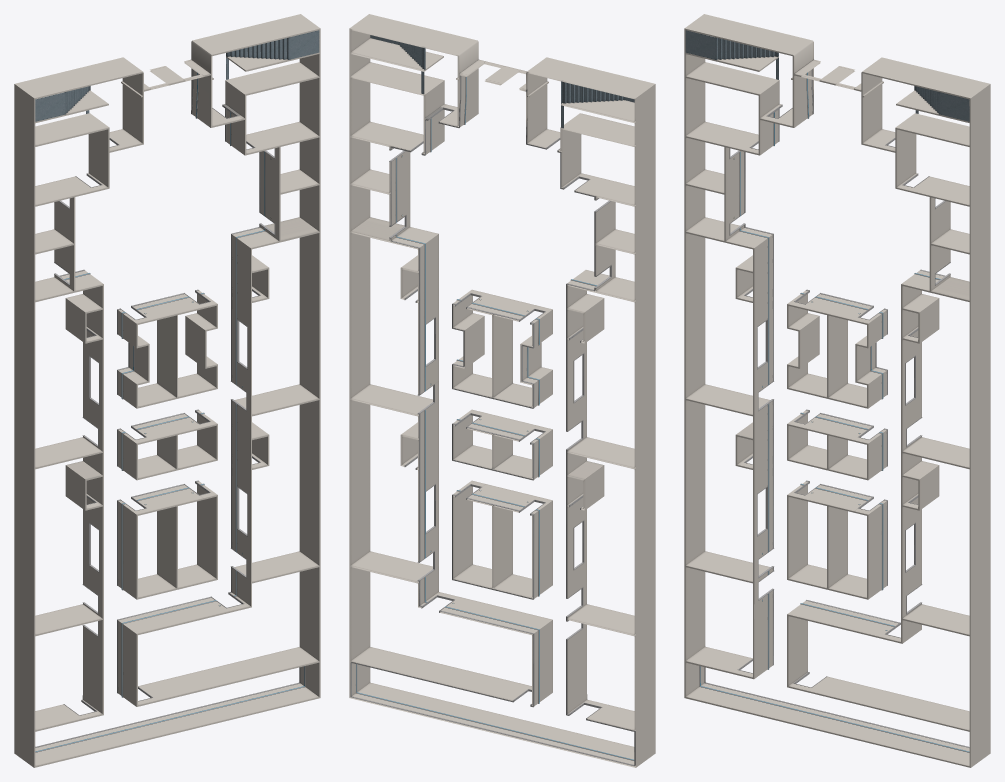
3 renders of one model, left to right at view 1: azimuth 30°, elevation 25°; view 2: azimuth 150°, elevation 25°; view 3: azimuth 330°, elevation 25°, orthographic.
Parts seen in each view (by area): view 1: node_0, node_1, node_5, node_6, node_3, node_2, node_4; view 2: node_0, node_6, node_5, node_1, node_3, node_2, node_4; view 3: node_0, node_1, node_5, node_6, node_3, node_2, node_4.
Part boxes in pixels (bbox=[...]): node_0: bbox=[14, 14, 320, 767]; node_1: bbox=[35, 30, 319, 121]; node_5: bbox=[35, 72, 305, 752]; node_6: bbox=[35, 69, 300, 747]; node_3: bbox=[54, 104, 275, 510]; node_2: bbox=[89, 319, 247, 572]; node_4: bbox=[64, 381, 246, 715]; node_0: bbox=[349, 14, 655, 767]; node_6: bbox=[350, 75, 635, 766]; node_5: bbox=[356, 77, 634, 760]; node_1: bbox=[370, 35, 634, 128]; node_3: bbox=[389, 107, 611, 515]; node_2: bbox=[425, 317, 584, 569]; node_4: bbox=[417, 384, 601, 720]; node_0: bbox=[684, 14, 990, 767]; node_1: bbox=[685, 30, 969, 121]; node_5: bbox=[699, 72, 969, 752]; node_6: bbox=[704, 69, 969, 747]; node_3: bbox=[729, 104, 950, 510]; node_2: bbox=[757, 319, 915, 572]; node_4: bbox=[738, 381, 922, 687].
Bounding box in the file's own units: 25.12 × 56.12 × 3.
8 materials, 8 textured.
